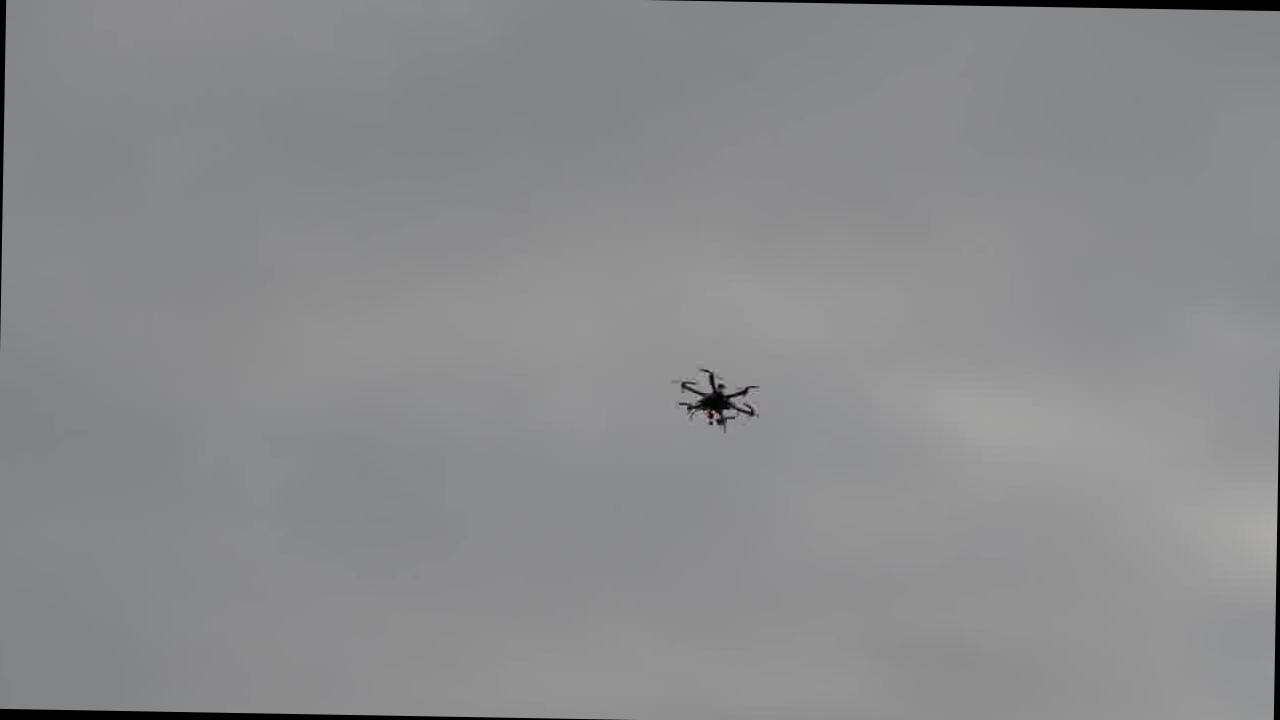drone: (673, 360, 761, 436)
